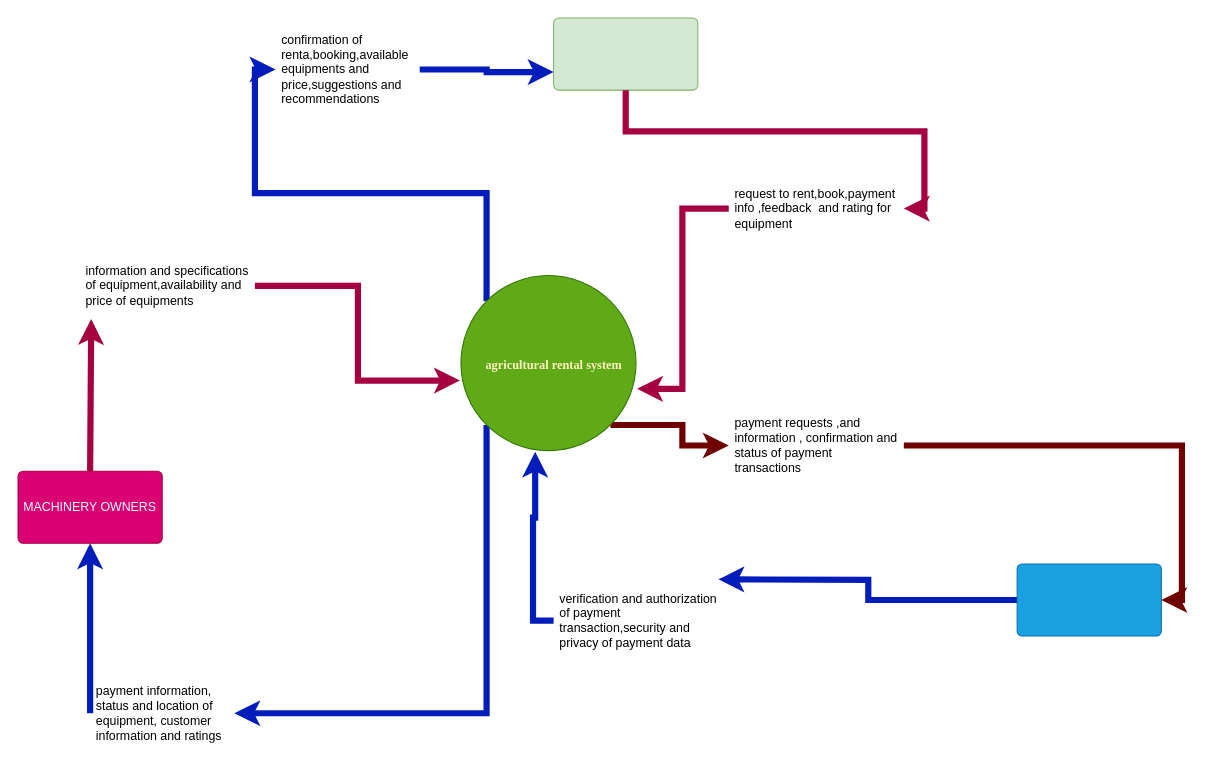
Image size: 1211x767. Some labels were removed from this diagram. The shapes that lost their labels are listed below. From the top down, each one's centre as x and y in pixels, then its label:
the point at 625,53: FARMER
the point at 1088,599: PAYMENT GATEWAY
